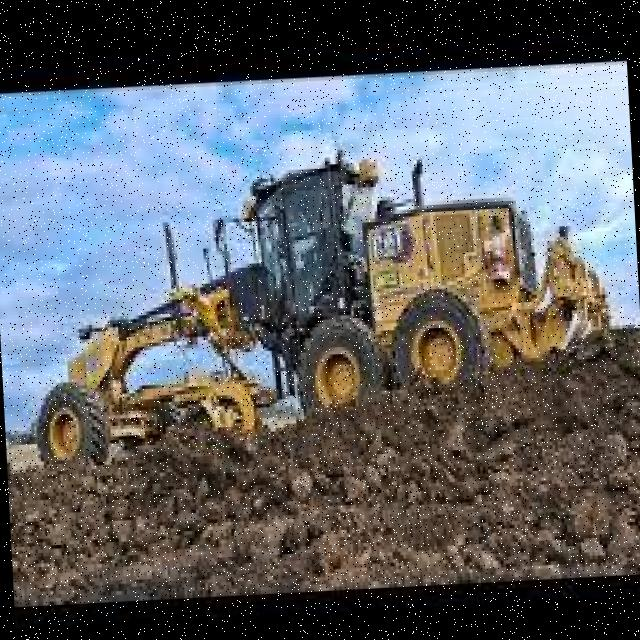Grader: (2, 122, 620, 508)
